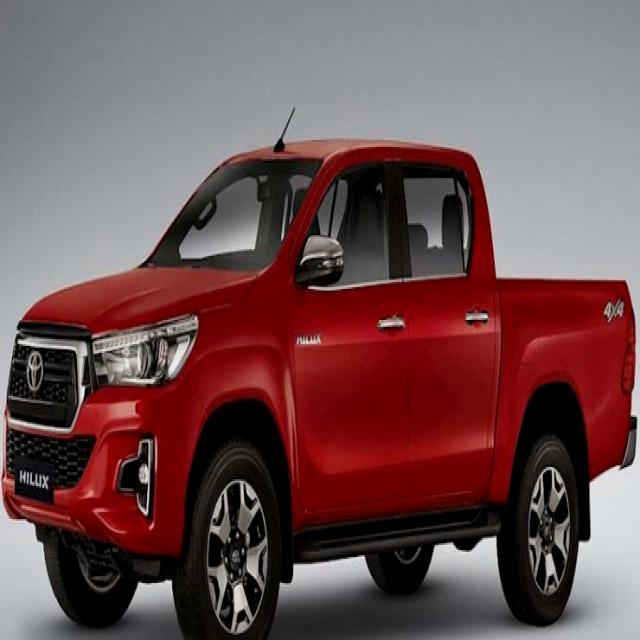CMT: (4, 137, 634, 562)
